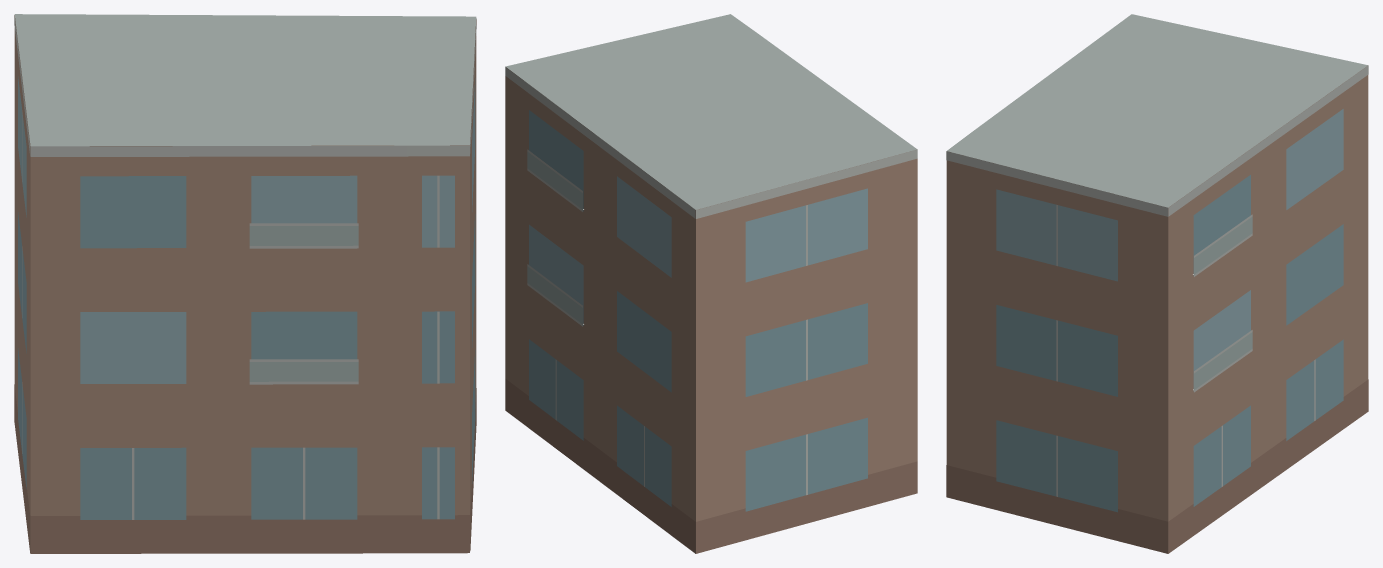
Rendered from survey-upis-33026704.glb.
The picture shows the model from 3 angles, left to right: view 1: azimuth 30°, elevation 25°; view 2: azimuth 150°, elevation 25°; view 3: azimuth 270°, elevation 25°; orthographic projection. The views are drawn at different scales.
Visible parts, largest first — view 1: survey-upis-33026704.tmp; view 2: survey-upis-33026704.tmp; view 3: survey-upis-33026704.tmp.
Boxes of the visible parts, bbox=[...] form: survey-upis-33026704.tmp: bbox=[14, 14, 476, 553]; survey-upis-33026704.tmp: bbox=[505, 14, 917, 553]; survey-upis-33026704.tmp: bbox=[946, 14, 1368, 553].
Size of the model in its own units: 10.99 by 9.15 by 10.12.
